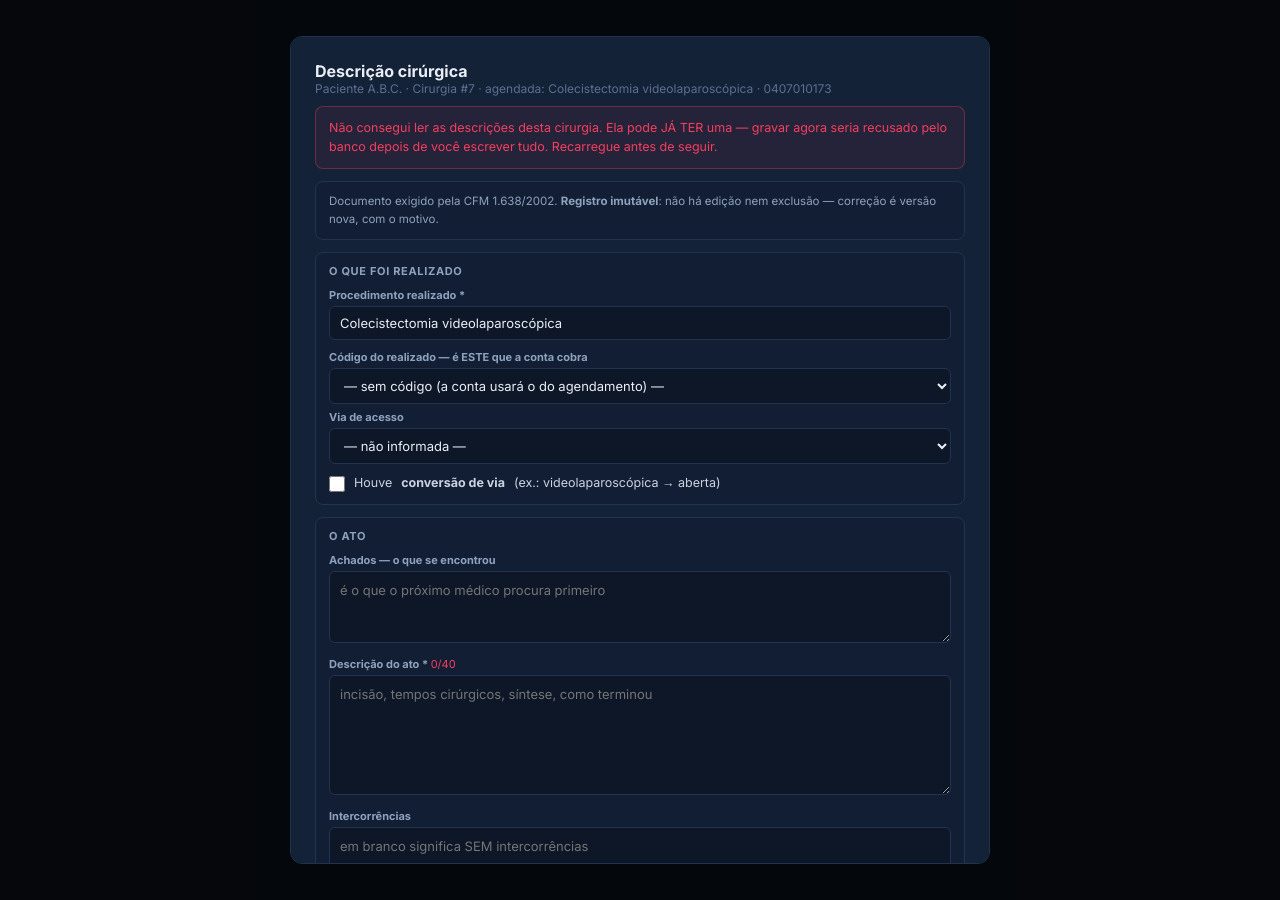
🔴 o modal da descrição cirúrgica › 🔴 leitura que falhou: a tela NÃO oferece gravar, e explica por quê
The width and height of the screenshot is (1280, 900).
Expected: the text "Não consegui ler as descrições" is shown, [329,120,947,154]
Replace the text in the field with placeholder "o ato que aconteceu, não o que estava marcado" with "Colecistectomia" at x=640, y=323, box [329,306,951,340]
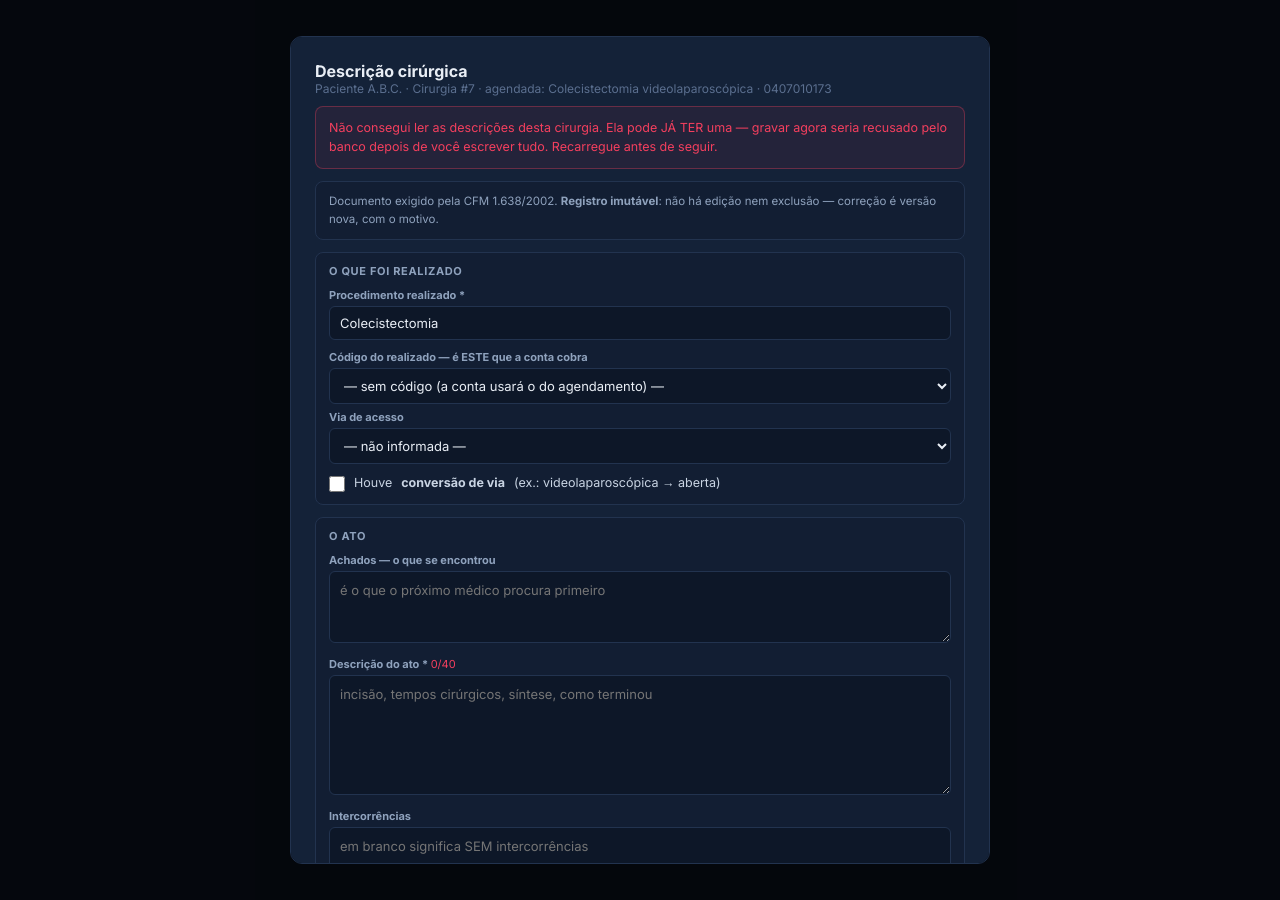
Type "Incisão subcostal direita. Colecistectomia sem intercorrências, colédoco preservado." into the text box with placeholder "incisão, tempos cirúrgicos, síntese, como terminou" at x=640, y=735, box [329,675,951,795]
(page scrolled)
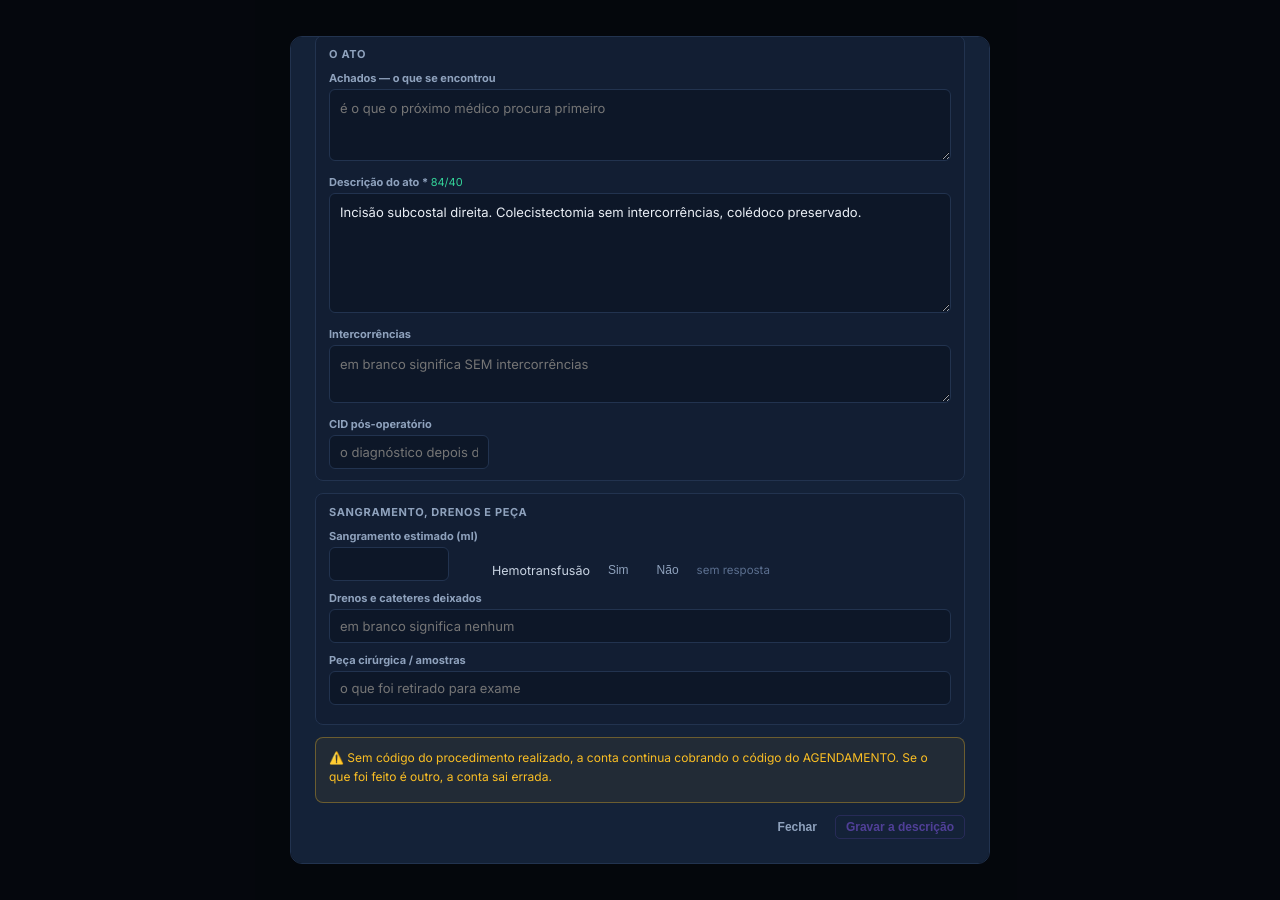
Expected: the button "Gravar a descrição" is disabled, [835,815,965,839]
